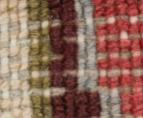Knot: (47, 19, 62, 28), (86, 107, 99, 117), (52, 104, 65, 113), (49, 87, 60, 96), (63, 109, 75, 117), (49, 10, 59, 19), (49, 61, 60, 69), (127, 15, 136, 24), (97, 76, 106, 85), (96, 61, 106, 69), (109, 69, 120, 76), (49, 54, 59, 61), (42, 111, 53, 117), (50, 78, 59, 85), (127, 8, 136, 15), (120, 69, 129, 76), (52, 96, 59, 104), (119, 32, 127, 39), (99, 69, 106, 76), (122, 113, 130, 117), (137, 15, 142, 21)
